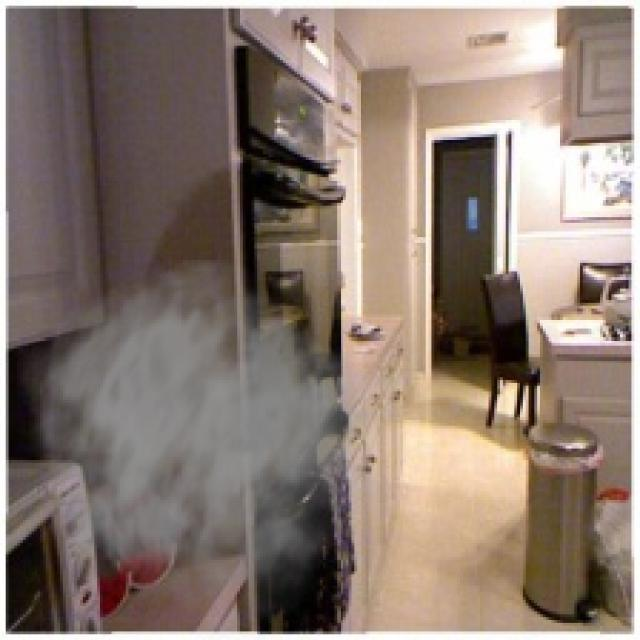Smoke: (17, 257, 397, 637)
